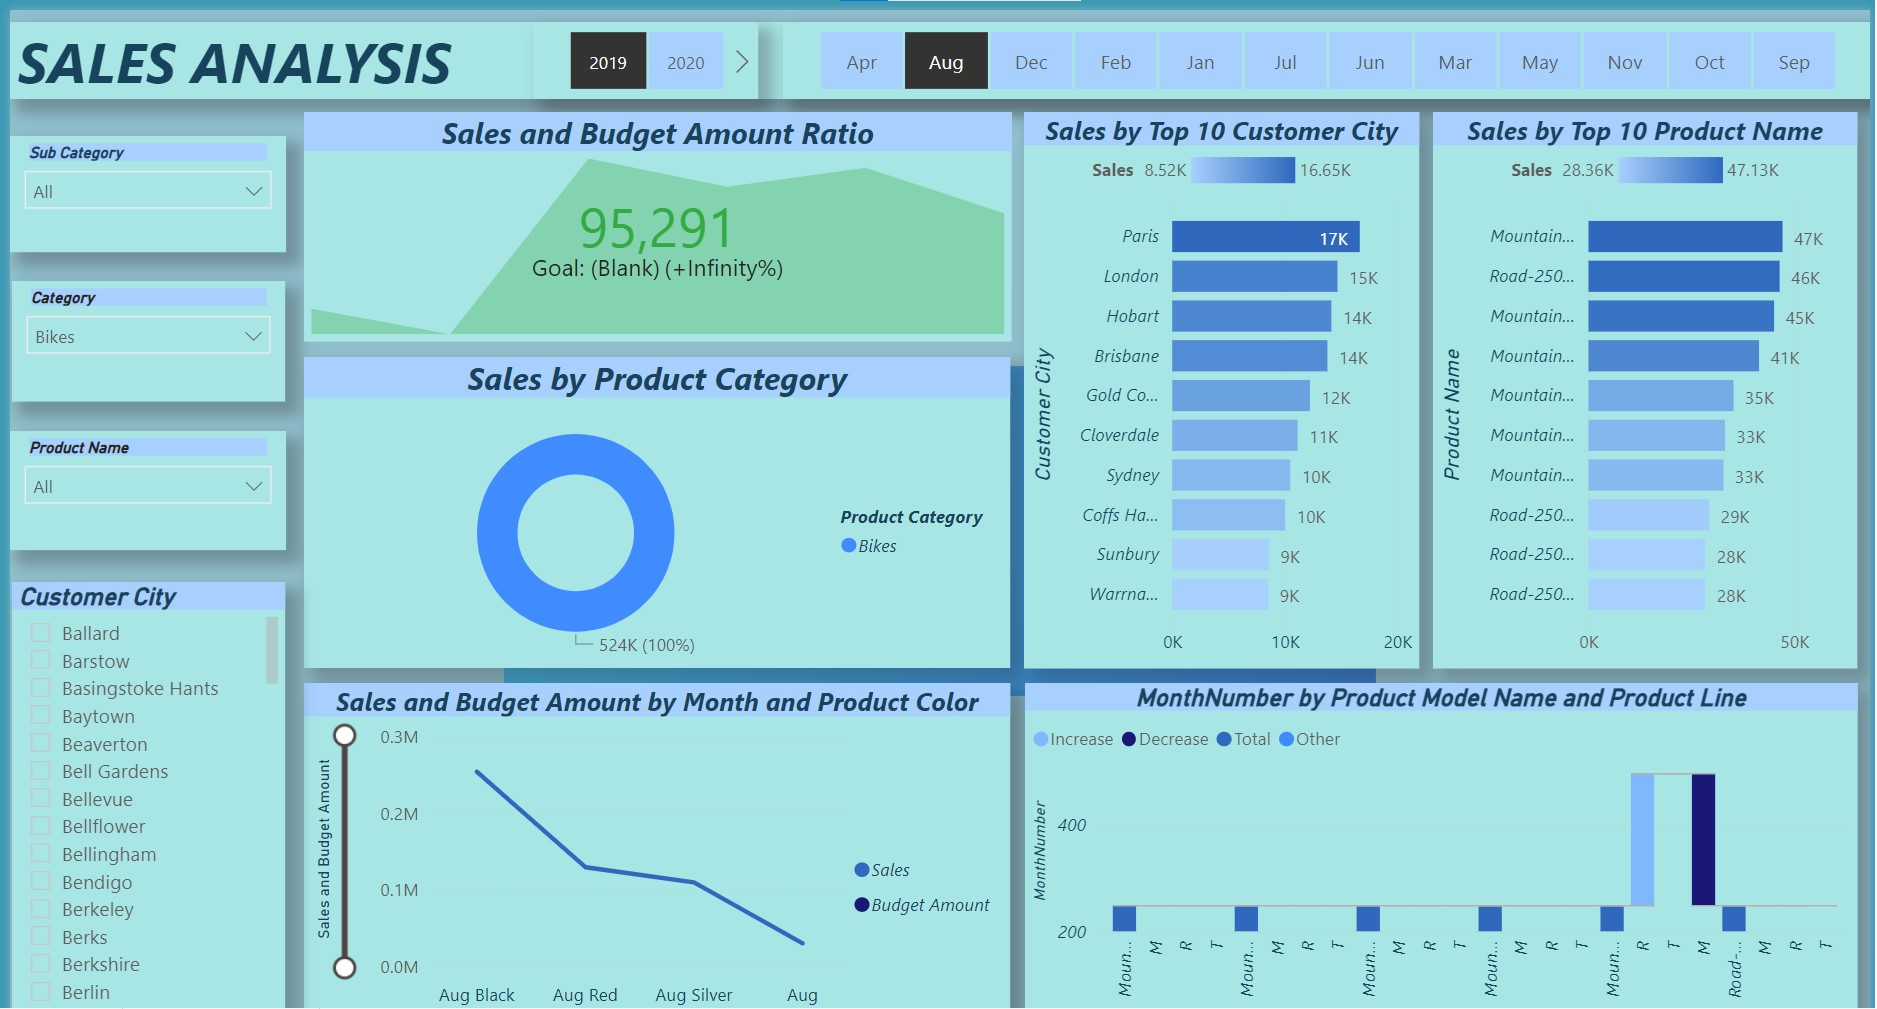

The dashboard page shown, as its layout file describes it:
{"tool":"powerbi","page":{"name":"Sales Overview","canvas":[1280,720],"ordinal":0},"visuals":[{"type":"textbox","title":"SALES ANALYSIS","box":[0,8.3,1280,53.3],"z":0},{"type":"slicer","fields":{"Values":["DIM_Products.Sub Category"]},"box":[0,86.7,190,80],"z":2000},{"type":"slicer","fields":{"Values":["DIM_Products.Product Category"]},"box":[1.7,186.7,188.3,83.3],"z":3000},{"type":"slicer","fields":{"Values":["DIM_Products.Product Name"]},"box":[0,290,190,81.7],"z":4000},{"type":"slicer","fields":{"Values":["Dim_Date_Excel.Year"]},"box":[360,8.3,155,53.3],"z":5000},{"type":"slicer","fields":{"Values":["Dim_Date_Excel.MonthShort"]},"box":[531.7,8.3,748.3,53.3],"z":6000},{"type":"kpi","title":"Sales and Budget Amount Ratio","fields":{"Indicator":["Key Measures.Sales"],"Goal":["Key Measures.Budget_Amount"],"TrendLine":["FactInternetSale.SalesAmount"]},"box":[202,70,487,158],"z":7000},{"type":"donutChart","fields":{"Category":["DIM_Products.Product Category"],"Y":["Key Measures.Sales"]},"box":[202,239,486,214],"z":8000},{"type":"lineChart","fields":{"Category":["Dim_Date_Excel.MonthShort","DIM_Products.Product Color"],"Y":["Key Measures.Sales","Key Measures.Budget_Amount"]},"box":[202,463,486,257],"z":9000},{"type":"barChart","title":"Sales by Top 10 Customer City","fields":{"Y":["Key Measures.Sales"],"Category":["DIM_Customer.Customer City"]},"box":[698,70,272,383],"z":10000},{"type":"barChart","title":"Sales by Top 10 Product Name","fields":{"Y":["Key Measures.Sales"],"Category":["DIM_Products.Product Name"]},"box":[979,70,292,383],"z":11000},{"type":"waterfallChart","fields":{"Y":["Sum(Dim_Date_Excel.MonthNumber)"],"Category":["DIM_Products.Product Model Name"],"Breakdown":["DIM_Products.Product Line"]},"box":[698.3,463.3,572.5,256.7],"z":12000},{"type":"slicer","title":"Customer City","fields":{"Values":["DIM_Customer.Customer City"]},"box":[1.7,393.3,188.3,326.7],"z":13000}]}

Visuals, with their boxes in screenshot pixels (x1, y1, x2, y2):
"SALES ANALYSIS" textbox: {"left": 24, "top": 12, "right": 1855, "bottom": 88}
slicer - DIM_Products.Sub Category: {"left": 24, "top": 124, "right": 296, "bottom": 238}
slicer - DIM_Products.Product Category: {"left": 27, "top": 267, "right": 296, "bottom": 386}
slicer - DIM_Products.Product Name: {"left": 24, "top": 415, "right": 296, "bottom": 531}
slicer - Dim_Date_Excel.Year: {"left": 539, "top": 12, "right": 761, "bottom": 88}
slicer - Dim_Date_Excel.MonthShort: {"left": 785, "top": 12, "right": 1855, "bottom": 88}
"Sales and Budget Amount Ratio" kpi: {"left": 313, "top": 100, "right": 1010, "bottom": 326}
donutChart - DIM_Products.Product Category x Key Measures.Sales: {"left": 313, "top": 342, "right": 1008, "bottom": 648}
lineChart - Dim_Date_Excel.MonthShort x DIM_Products.Product Color: {"left": 313, "top": 662, "right": 1008, "bottom": 1008}
"Sales by Top 10 Customer City" barChart: {"left": 1022, "top": 100, "right": 1411, "bottom": 648}
"Sales by Top 10 Product Name" barChart: {"left": 1424, "top": 100, "right": 1842, "bottom": 648}
waterfallChart - Sum(Dim_Date_Excel.MonthNumber) x DIM_Products.Product Model Name: {"left": 1023, "top": 662, "right": 1842, "bottom": 1008}
"Customer City" slicer: {"left": 27, "top": 562, "right": 296, "bottom": 1008}
